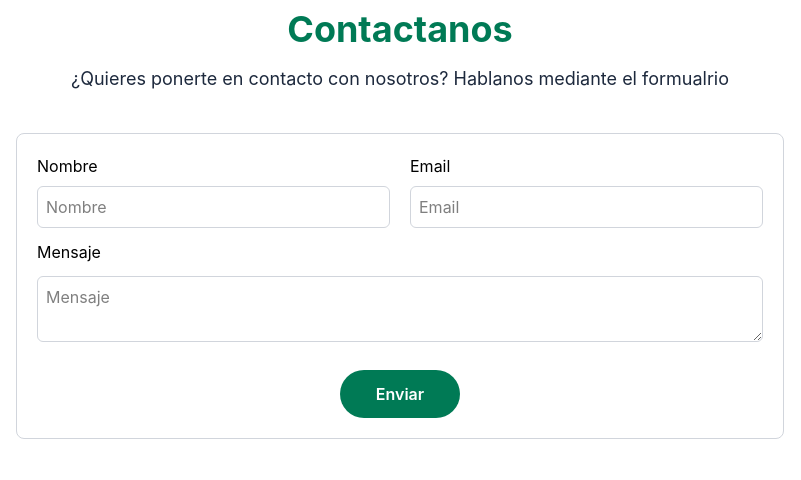
FormularioContactanos › rechaza un email con formato inválido
The image size is (801, 480).
In the field labelled "Nombre": [214, 207] box [37,186,390,228], type "Ana"
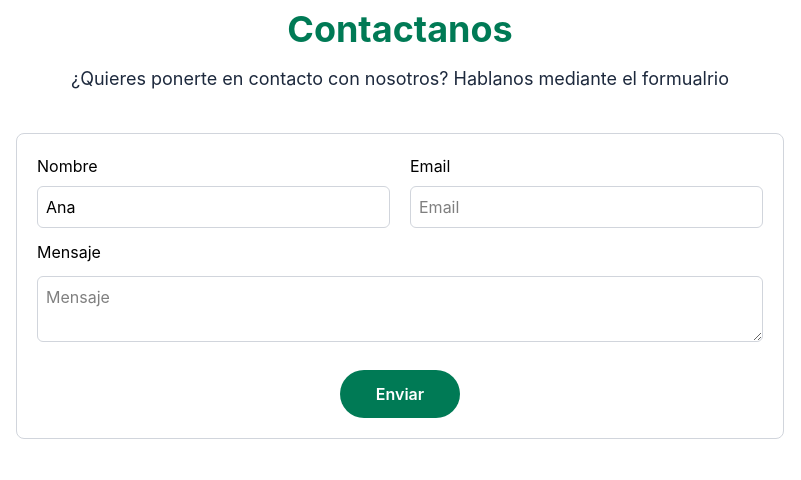
In the field labelled "Email": [586, 207] box [410,186,763,228], type "ana-sin-arroba.cl"
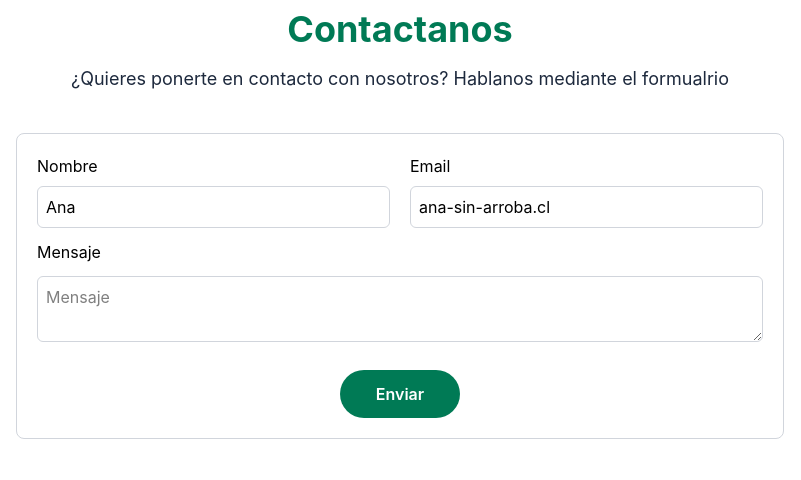
In the text box labelled "Mensaje": [400, 309] box [37,276,763,342], type "Hola"
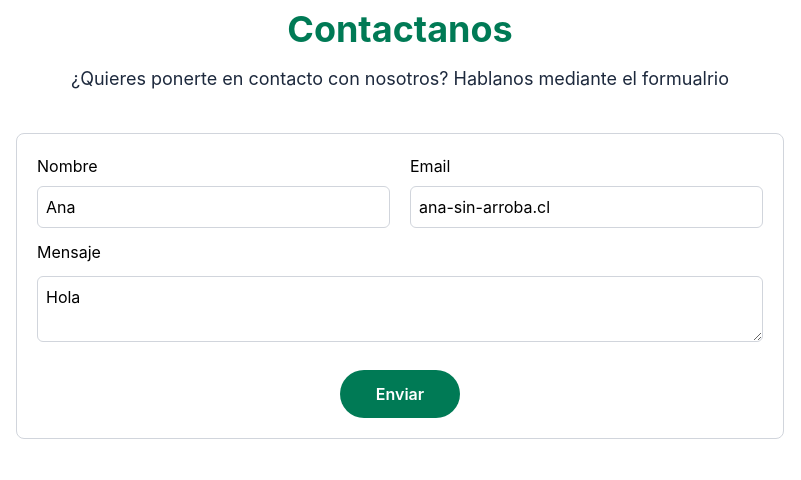
Click the button "Enviar": [400, 394] box [340,370,460,418]
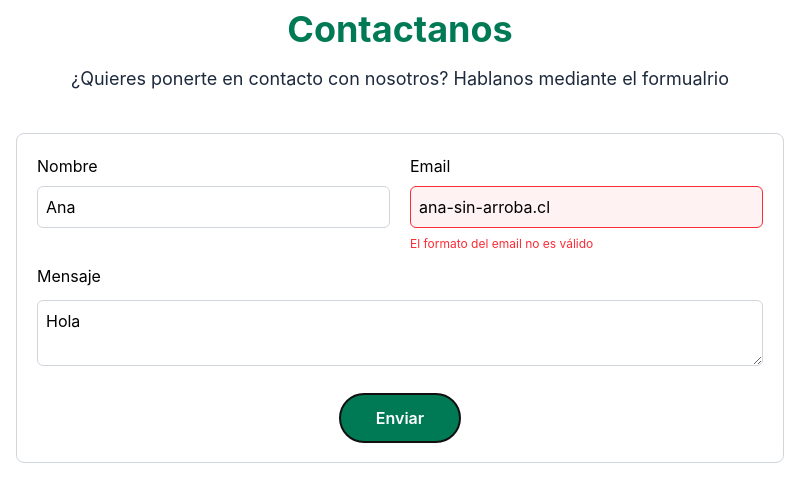
Result: the text "El formato del email no es válido" is shown at [410,236,593,251]
